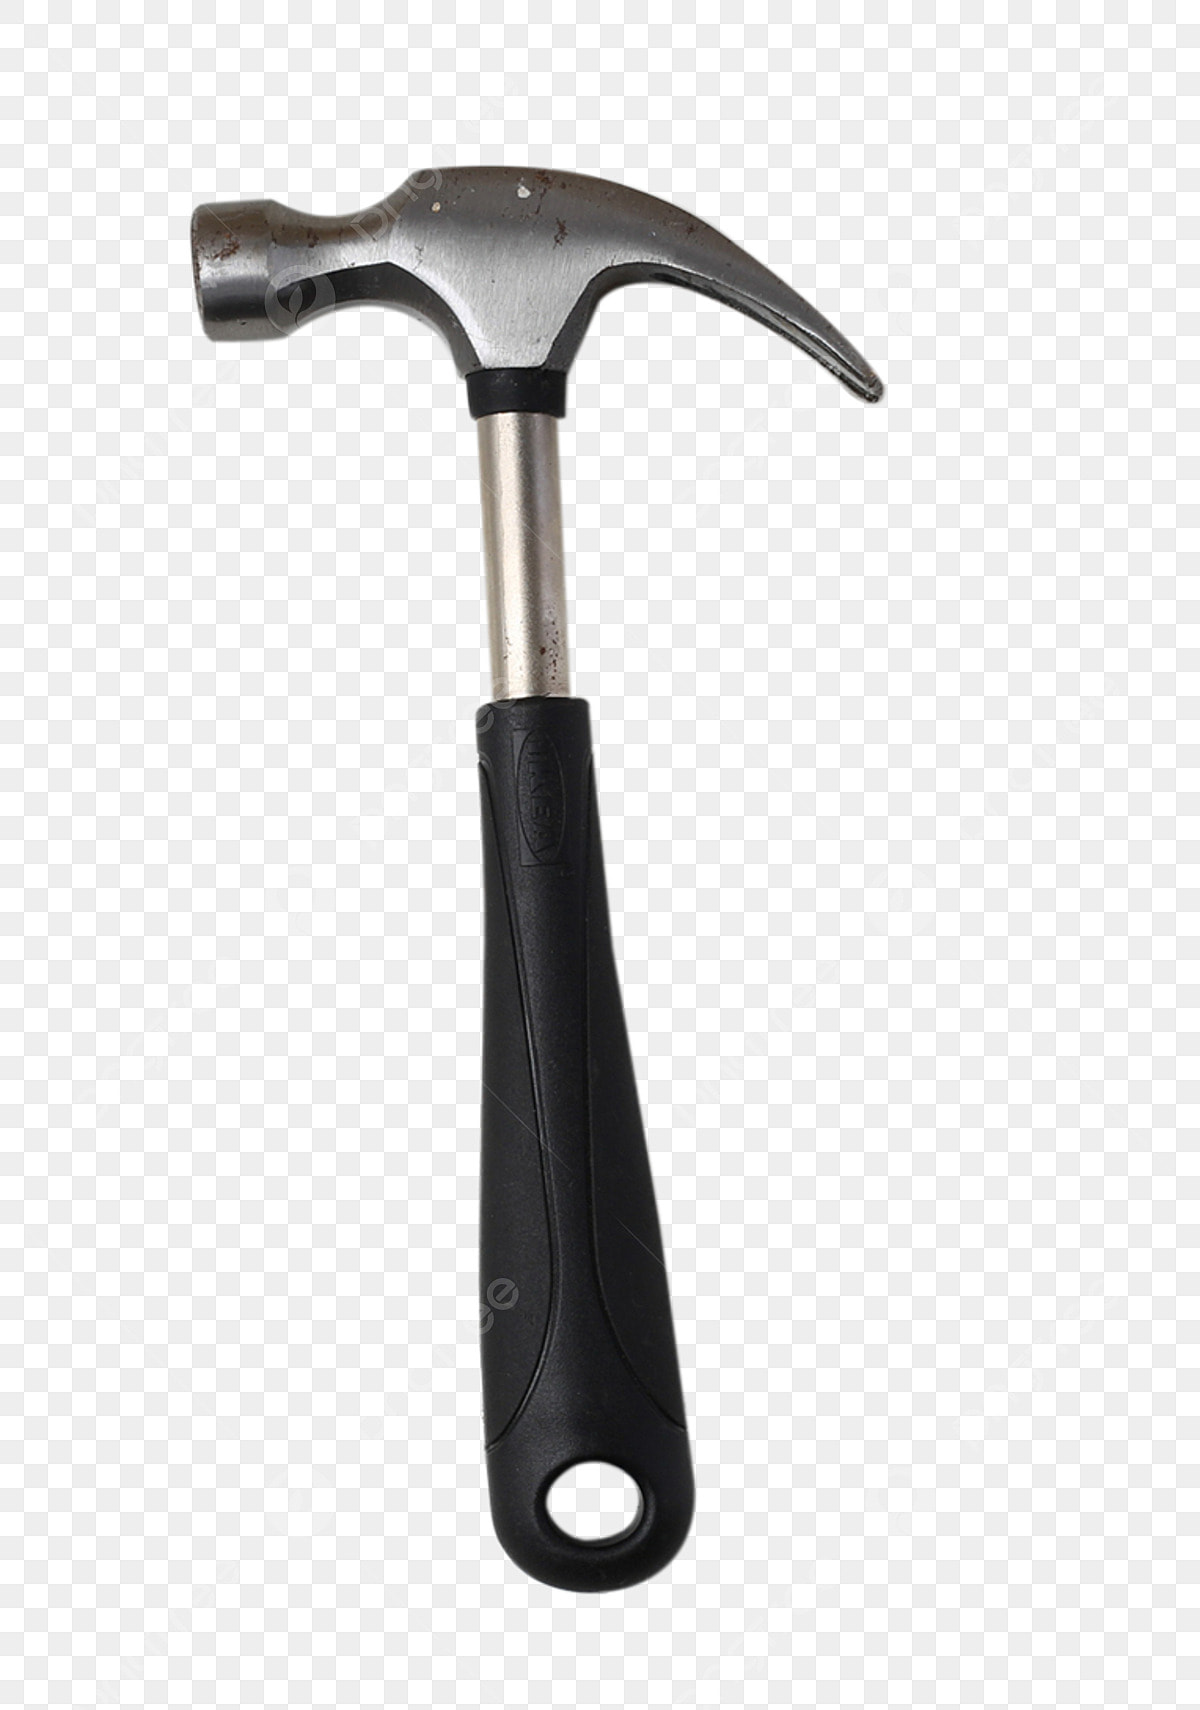hammer: (171, 164, 934, 1605)
